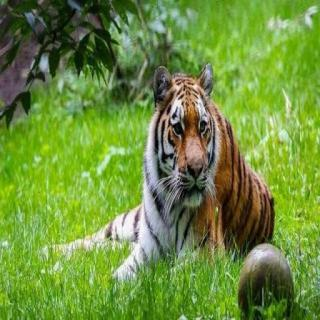Tiger: (58, 48, 294, 253)
